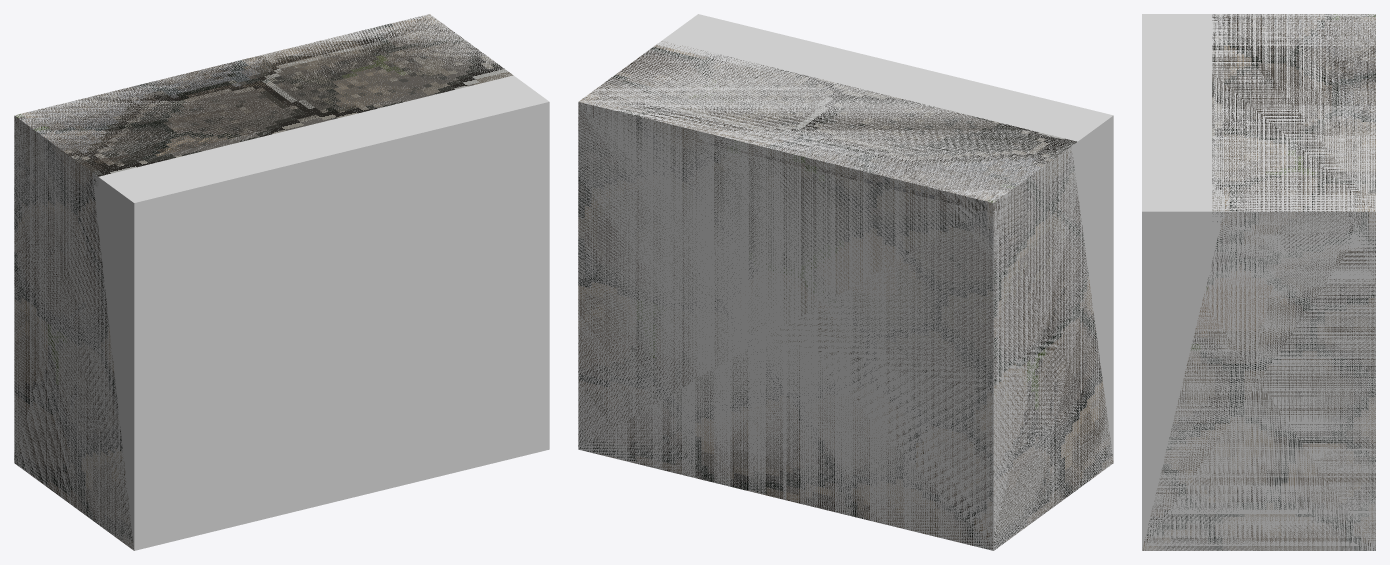
File: JP_Prop_Embankment_2m_A.glb
The picture shows the model from 3 angles, left to right: view 1: azimuth 30°, elevation 25°; view 2: azimuth 150°, elevation 25°; view 3: azimuth 270°, elevation 25°; orthographic projection. The views are drawn at different scales.
Visible parts, largest first — view 1: COL_JP_Prop_Embankment_2m_A, JP_Prop_Embankment_2m_A; view 2: COL_JP_Prop_Embankment_2m_A, JP_Prop_Embankment_2m_A; view 3: COL_JP_Prop_Embankment_2m_A, JP_Prop_Embankment_2m_A.
Boxes of the visible parts, box(x1,y1,x2,y2) form: COL_JP_Prop_Embankment_2m_A: box(14, 14, 549, 550); JP_Prop_Embankment_2m_A: box(14, 14, 513, 548); COL_JP_Prop_Embankment_2m_A: box(578, 14, 1113, 550); JP_Prop_Embankment_2m_A: box(578, 41, 1113, 549); COL_JP_Prop_Embankment_2m_A: box(1142, 14, 1375, 550); JP_Prop_Embankment_2m_A: box(1143, 14, 1375, 550).
Bounding box in the file's own units: 2 × 1.6 × 1.
Materials: 2 (2 with a texture image).
